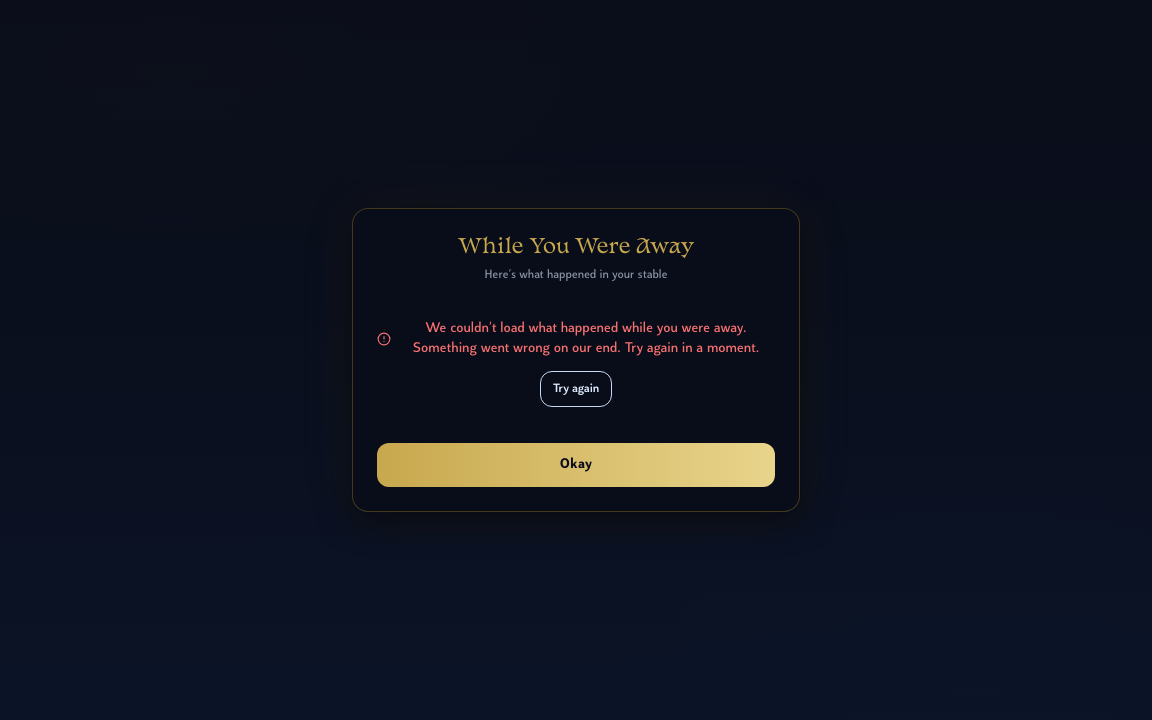
Test: WhileYouWereGone — failure is not "nothing new" (Equoria-bvddn.39) › retry re-fetches and renders the real items
Click the button "Try again" at [576, 389], box [540,371,612,407]
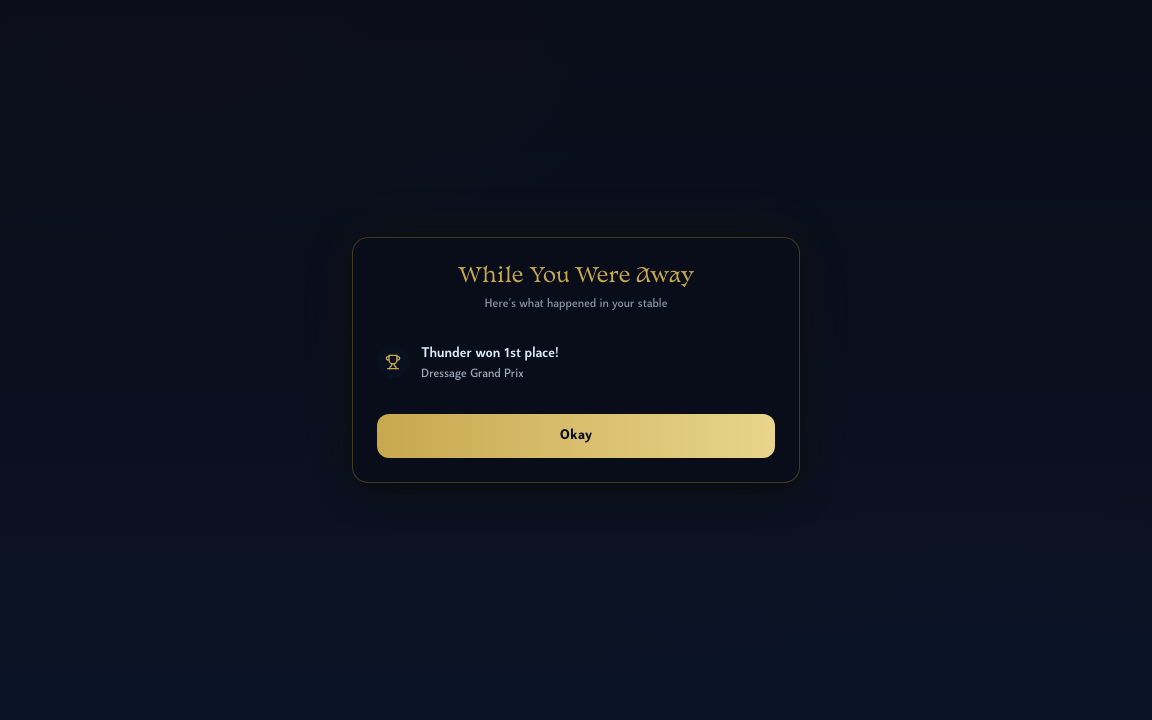
Check: the text "Thunder won 1st place!" is shown, box [421,346,559,361]
